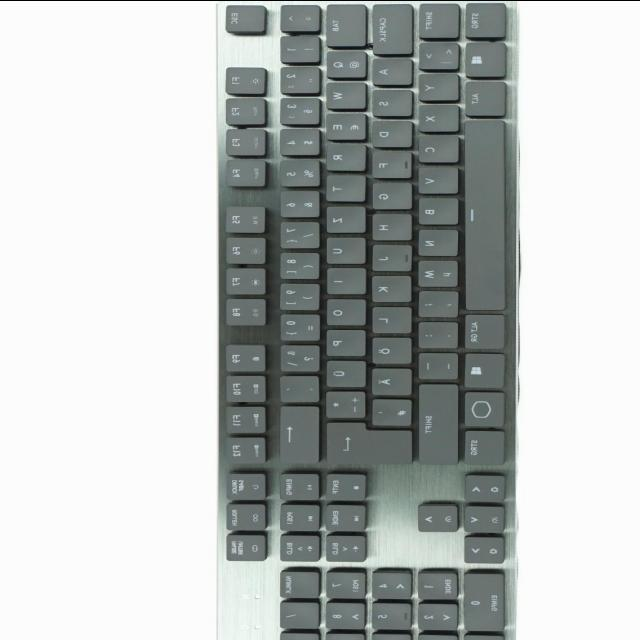0: (278, 312, 320, 340)
1: (277, 34, 319, 62)
2: (276, 65, 319, 93)
3: (277, 96, 320, 124)
4: (276, 127, 319, 155)
5: (277, 158, 321, 186)
6: (277, 189, 319, 217)
7: (277, 220, 319, 248)
8: (277, 251, 319, 279)
9: (277, 281, 319, 309)
a: (368, 56, 412, 84)
accent: (276, 374, 318, 401)
ae: (369, 366, 412, 394)
alt-left: (461, 79, 505, 116)
altgr-right: (462, 313, 504, 349)
b: (415, 197, 458, 225)
c: (415, 134, 458, 162)
caret: (277, 4, 318, 30)
comma: (415, 289, 457, 316)
d: (369, 119, 411, 147)
del: (277, 405, 319, 462)
e: (322, 111, 365, 139)
enter: (326, 422, 412, 462)
f: (369, 149, 411, 177)
g: (369, 181, 411, 209)
h: (369, 212, 411, 240)
hash: (369, 397, 411, 425)
i: (324, 266, 364, 294)
j: (368, 243, 411, 270)
k: (369, 274, 411, 302)
keyboard: (212, 0, 520, 640)
l: (369, 305, 411, 333)
less: (415, 40, 459, 68)
m: (414, 258, 457, 286)
minus: (416, 351, 458, 379)
n: (416, 228, 458, 256)
o: (324, 297, 365, 325)
oe: (369, 335, 412, 363)
p: (323, 327, 365, 355)
plus: (322, 389, 364, 417)
point: (416, 320, 457, 348)
q: (324, 49, 366, 78)
r: (323, 142, 365, 170)
s: (369, 87, 411, 115)
shift-left: (415, 1, 458, 37)
shift-lock: (369, 2, 411, 54)
shift-right: (416, 382, 457, 464)
space: (462, 117, 505, 310)
ss: (277, 343, 319, 371)
strg-left: (462, 2, 505, 38)
strg-right: (462, 429, 504, 465)
t: (324, 173, 365, 200)
tab: (323, 2, 365, 46)
u: (323, 236, 365, 264)
ue: (324, 358, 366, 386)
v: (415, 165, 457, 193)
w: (323, 80, 366, 108)
x: (415, 103, 459, 131)
y: (415, 72, 458, 100)
z: (324, 204, 364, 232)
